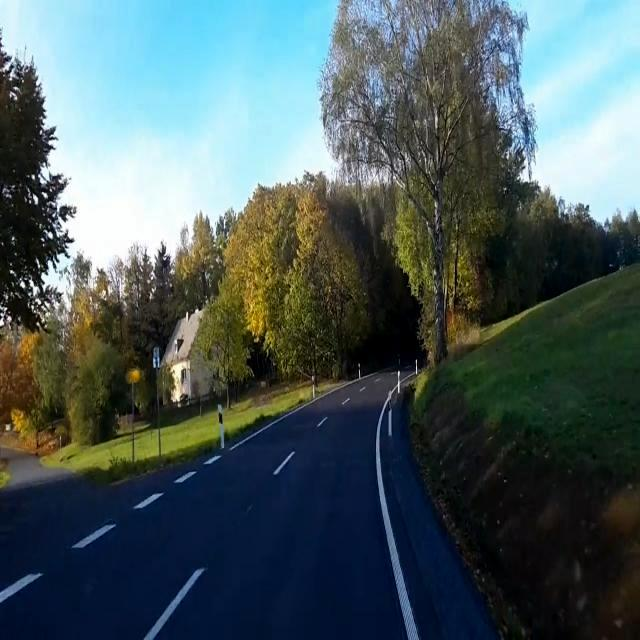lane: (376, 391, 420, 640), (141, 568, 209, 639), (2, 574, 44, 604), (71, 522, 118, 548), (272, 450, 294, 476), (132, 492, 162, 509), (174, 470, 199, 485), (202, 455, 221, 466), (316, 416, 327, 427), (244, 502, 254, 514), (225, 588, 231, 604)
road: (0, 372, 497, 639)
